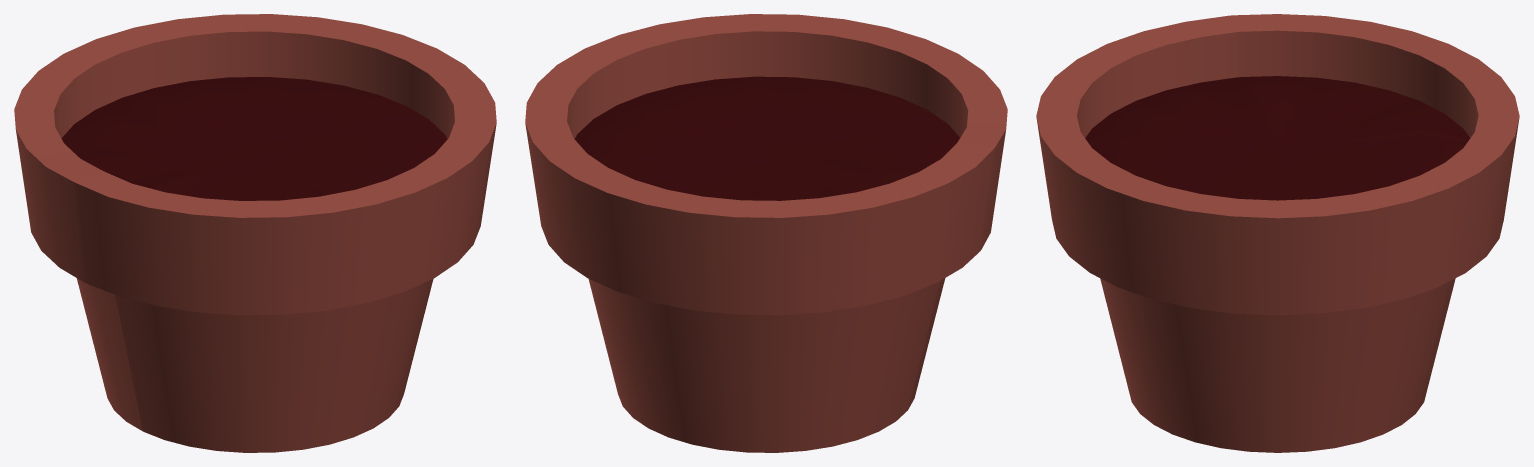
Rendered from chau.glb.
The picture shows the model from 3 angles, left to right: view 1: azimuth 30°, elevation 25°; view 2: azimuth 150°, elevation 25°; view 3: azimuth 270°, elevation 25°; orthographic projection.
Parts seen in each view (by area): view 1: Cylinder; view 2: Cylinder; view 3: Cylinder.
Boxes of the visible parts, x1,y1,x2,y2 form: Cylinder: (14,14,496,452); Cylinder: (525,14,1007,452); Cylinder: (1036,14,1519,452).
Size of the model in its own units: 2.35 by 1.47 by 2.35.
